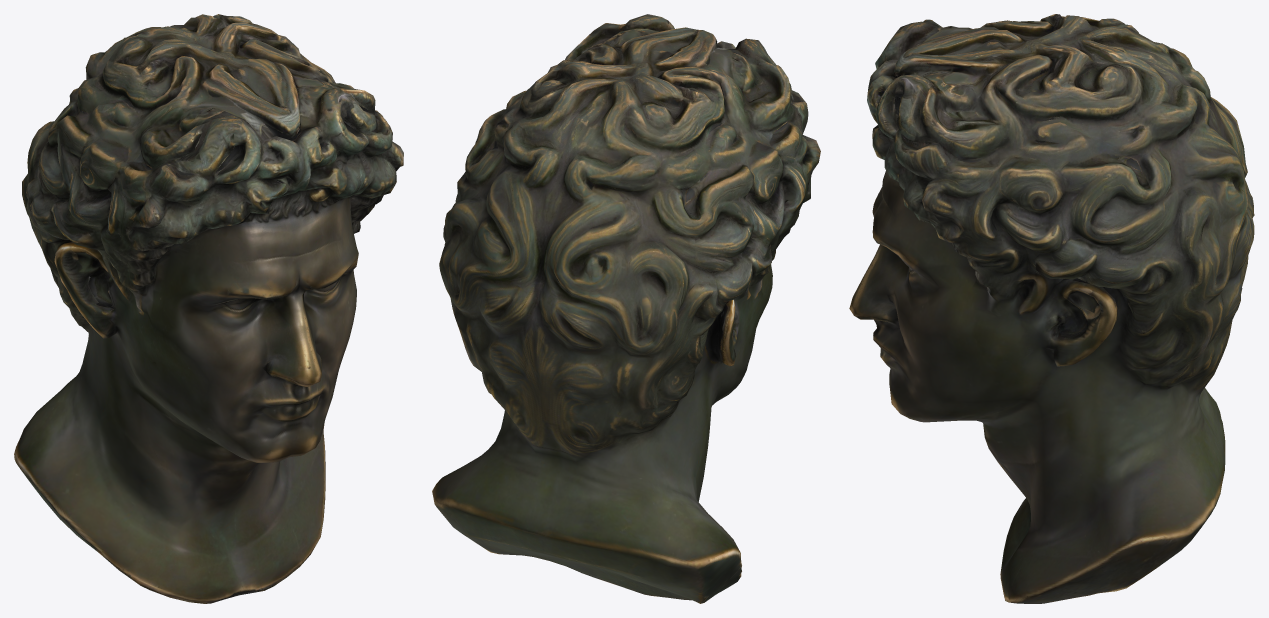
The model's file is bust_of_emperor_Caesa_0612202210_texture.glb.
3 renders of one model, left to right at view 1: azimuth 30°, elevation 25°; view 2: azimuth 150°, elevation 25°; view 3: azimuth 270°, elevation 25°, orthographic. The views are drawn at different scales.
Size of the model in its own units: 1.14 by 2 by 1.32.
Materials: 1 (1 with a texture image).
